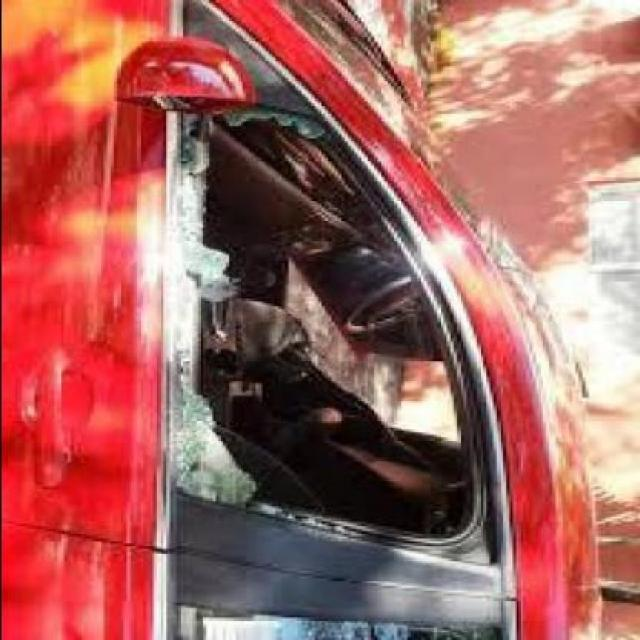damage: (174, 104, 485, 572)
